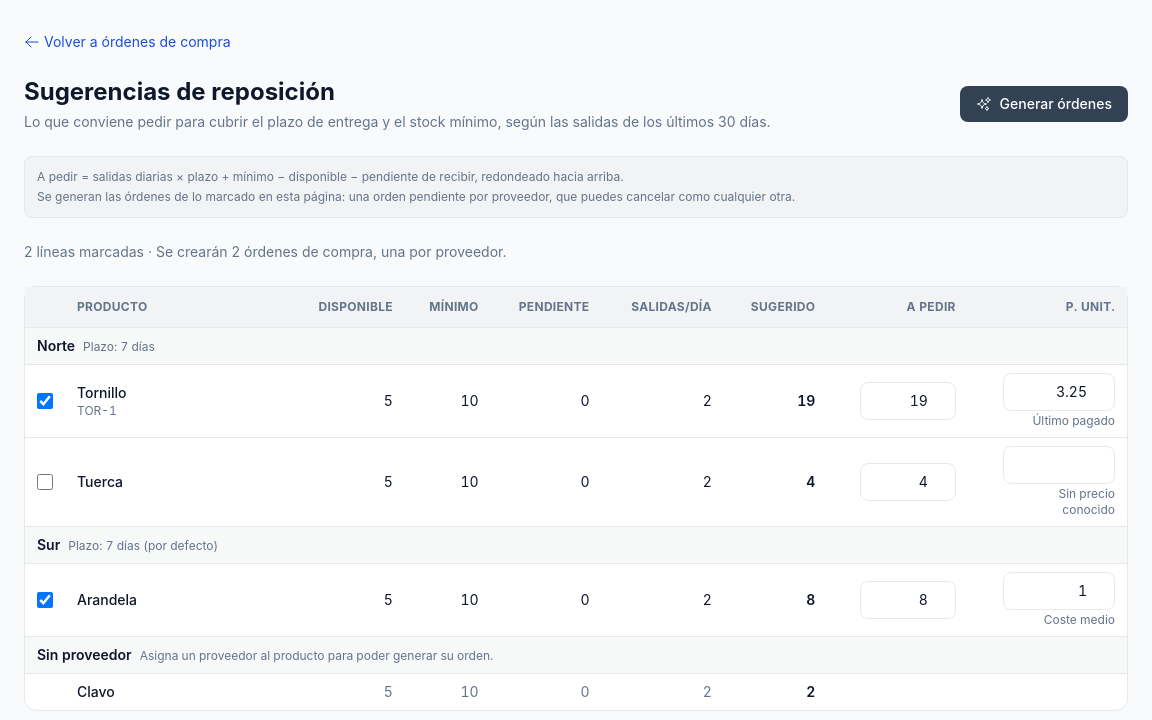
Test: Sugerencias de reposición (T5-05) › sin nada marcado no se puede generar
Click the checkbox named "Incluir Tornillo". click: (45, 401)
box: [37,393,53,409]
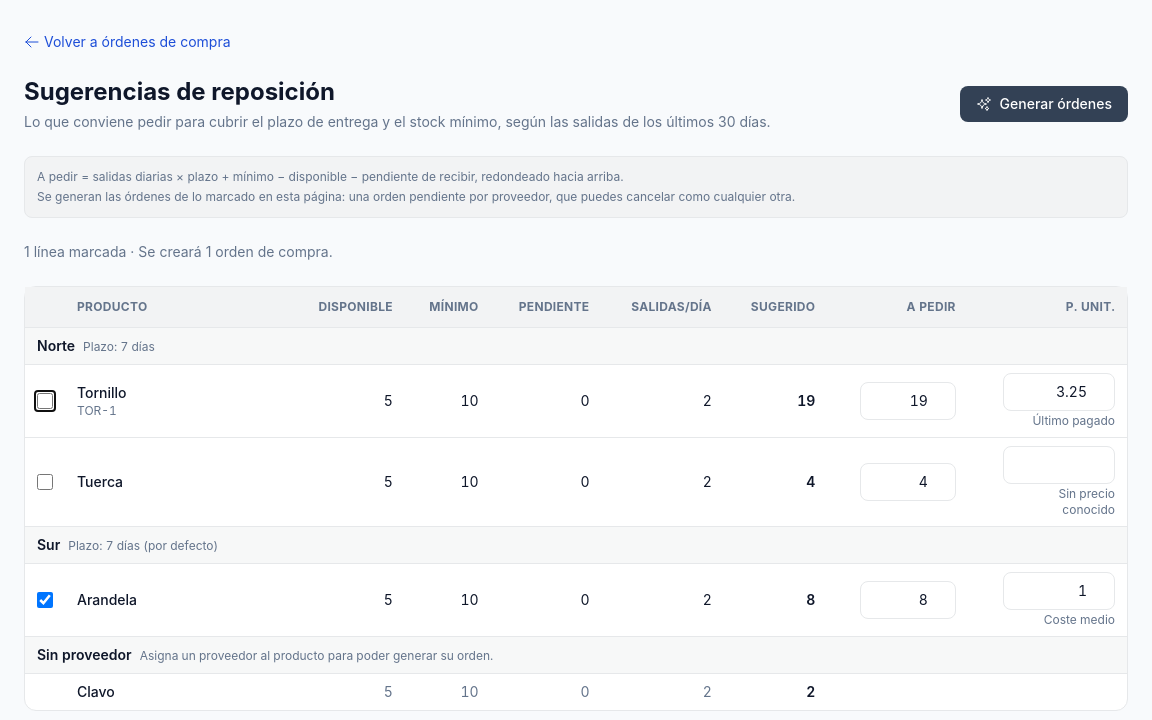
Click the checkbox named "Incluir Arandela". click: (45, 600)
box: [37,592,53,608]
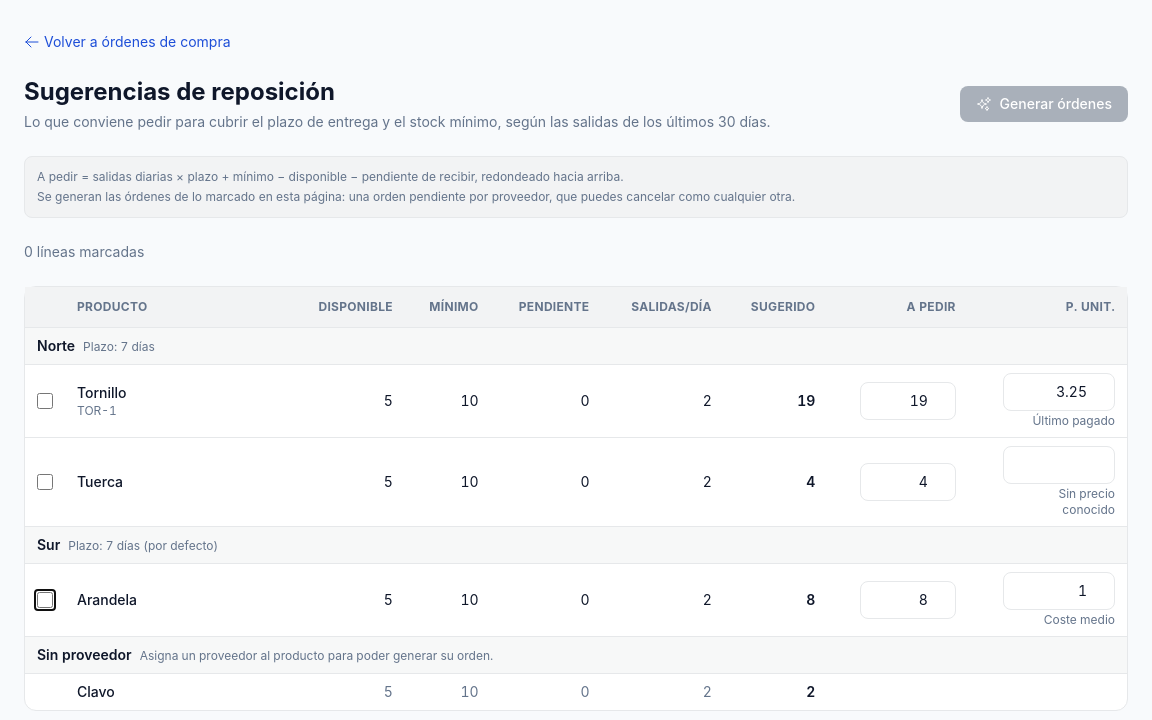
Expected: the button "Generar órdenes" is disabled, [960,86,1128,122]
Expected: the text "0 líneas marcadas" is shown, [24,243,144,260]
